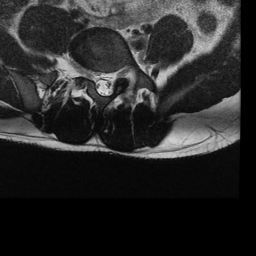CCS_normal: (100, 64, 107, 103)
LFS_normal: (114, 60, 122, 85)
LLS_normal: (107, 64, 115, 100)
RFS_normal: (83, 59, 92, 85)
RLS_normal: (92, 62, 100, 98)
